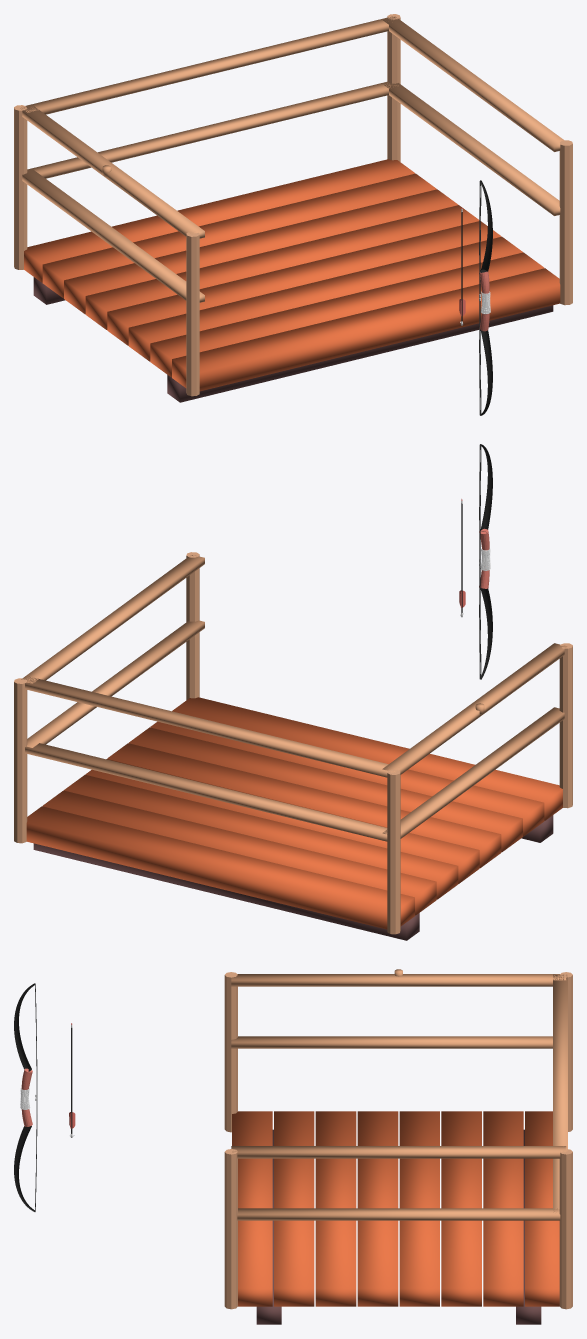
Rendered from platform.fbx.
3 renders of one model, top to bottom at view 1: azimuth 30°, elevation 25°; view 2: azimuth 150°, elevation 25°; view 3: azimuth 270°, elevation 25°, orthographic. The views are drawn at different scales.
Parts seen in each view (by area): view 1: Platform, Corner_Posts, Bow; view 2: Platform, Corner_Posts, Bow; view 3: Platform, Corner_Posts, Bow.
Boxes of the visible parts, box(x1,y1,x2,y2) form: Platform: box(20, 16, 564, 402); Corner_Posts: box(14, 14, 572, 396); Bow: box(479, 180, 492, 415); Platform: box(21, 555, 567, 940); Corner_Posts: box(14, 552, 572, 934); Bow: box(479, 444, 492, 679); Platform: box(231, 969, 567, 1324); Corner_Posts: box(224, 972, 572, 1309); Bow: box(14, 983, 37, 1211).
Size of the model in its own units: 258 by 167 by 334.
